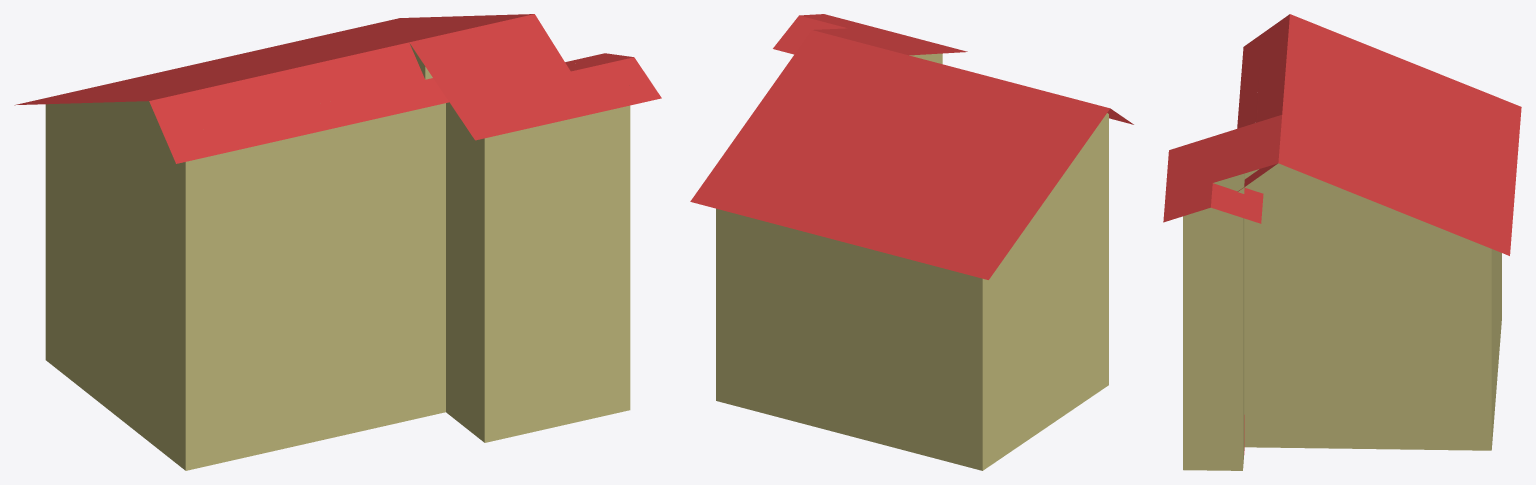
3 views of the same model, side by side, from view 1: azimuth 30°, elevation 25°; view 2: azimuth 150°, elevation 25°; view 3: azimuth 270°, elevation 25° (orthographic). The views are drawn at different scales.
Parts seen in each view (by area): view 1: group_5, group_9, group_3, group_7, group_8, group_4; view 2: group_5, group_3, group_4, group_7, group_11, group_8; view 3: group_5, group_3, group_13, group_9, group_7, group_8, group_4, group_11.
Part boxes in pixels (x1,y1,x2,y2): group_5: (45,101,456,470); group_9: (409,43,630,442); group_3: (14,14,533,163); group_7: (409,18,629,140); group_8: (425,14,661,140); group_4: (20,14,530,163); group_5: (716,113,1108,470); group_3: (690,30,1133,279); group_4: (690,31,1133,278); group_7: (816,18,967,55); group_11: (773,15,846,54); group_8: (799,14,966,54); group_5: (1238,163,1501,450); group_3: (1237,14,1521,255); group_13: (1211,208,1243,470); group_9: (1183,169,1258,470); group_7: (1169,115,1281,208); group_8: (1163,123,1278,222); group_4: (1244,15,1520,255); group_11: (1211,183,1263,223).
Size of the model in its own units: 16.3 by 14.23 by 12.82.
